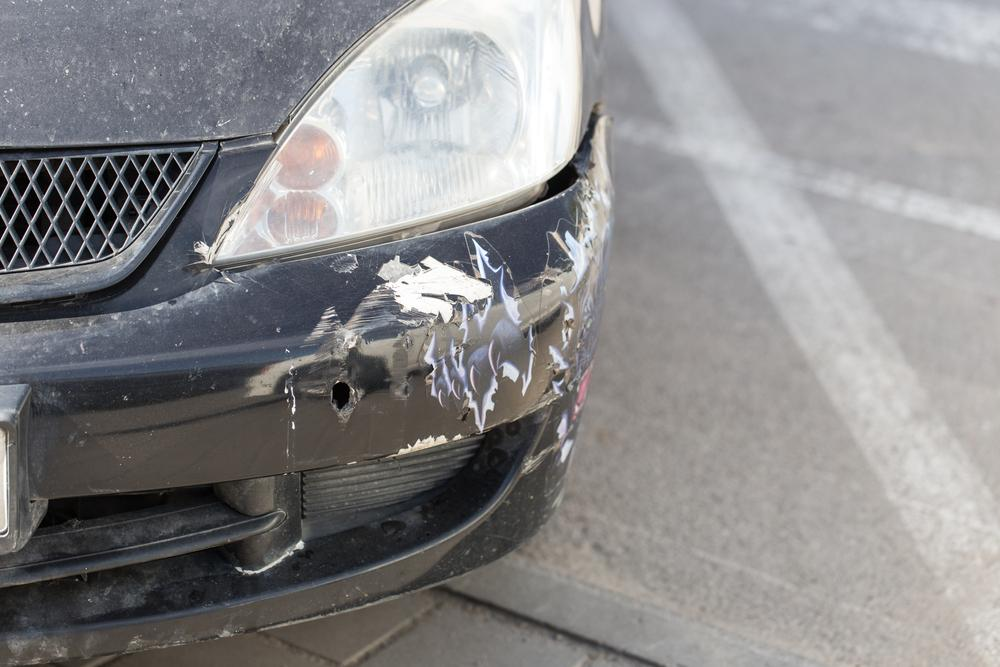scratch: (293, 185, 613, 502)
